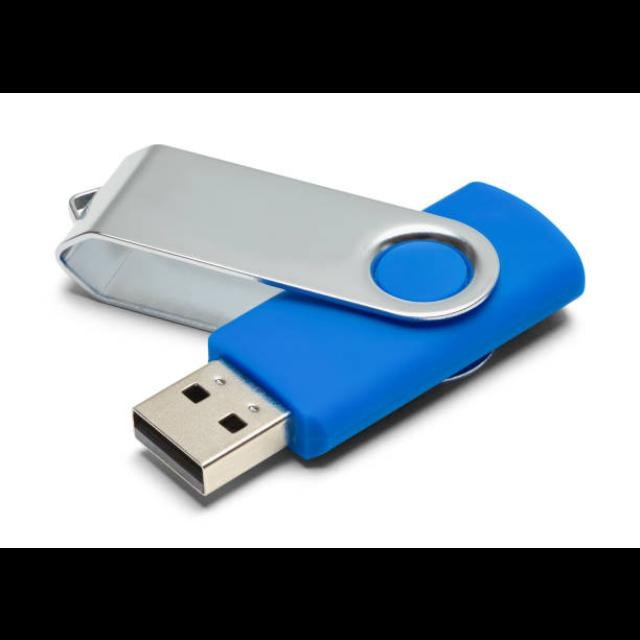USB-Flash-Drive: (55, 143, 588, 496)
